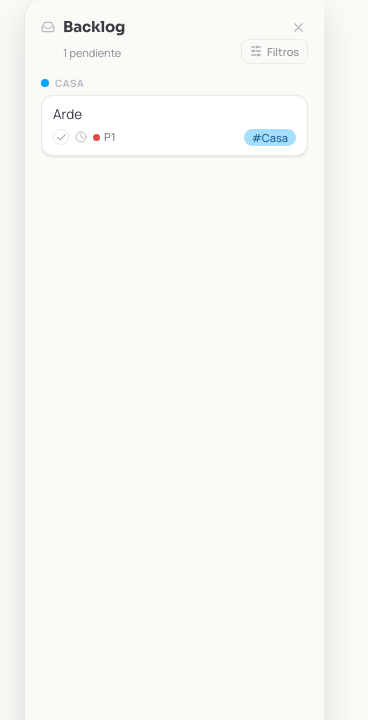
Test: BacklogPanel › ordenando por prioridad el agrupado no se ofrece
Click the button with aria-label "Filtrar y ordenar" at (274, 51), box left=241, top=38, right=308, bottom=64
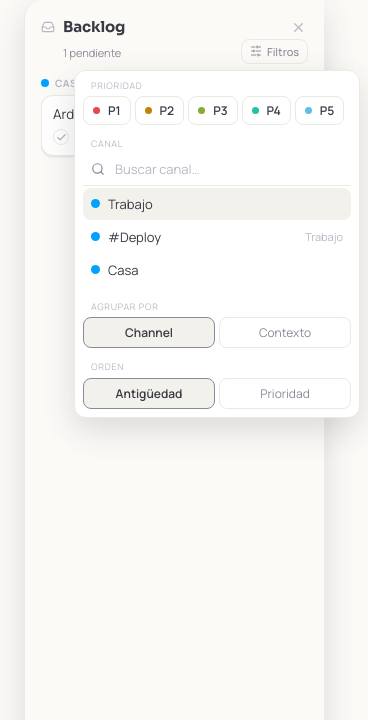
Expected: the button "Contexto" is shown, left=219, top=317, right=351, bottom=348
Click the button "Prioridad" at (285, 393), box left=219, top=378, right=351, bottom=408
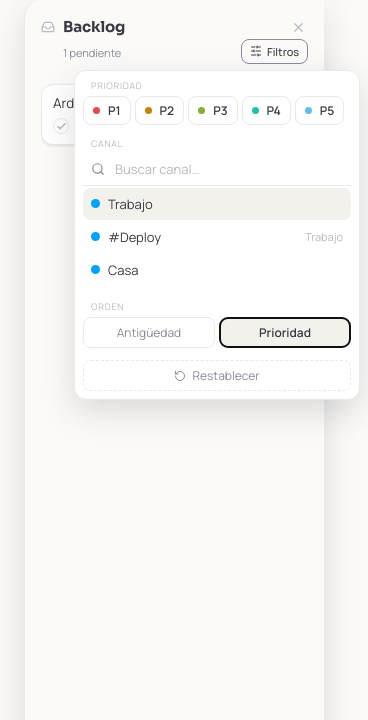
Expected: the button "Contexto" is gone
